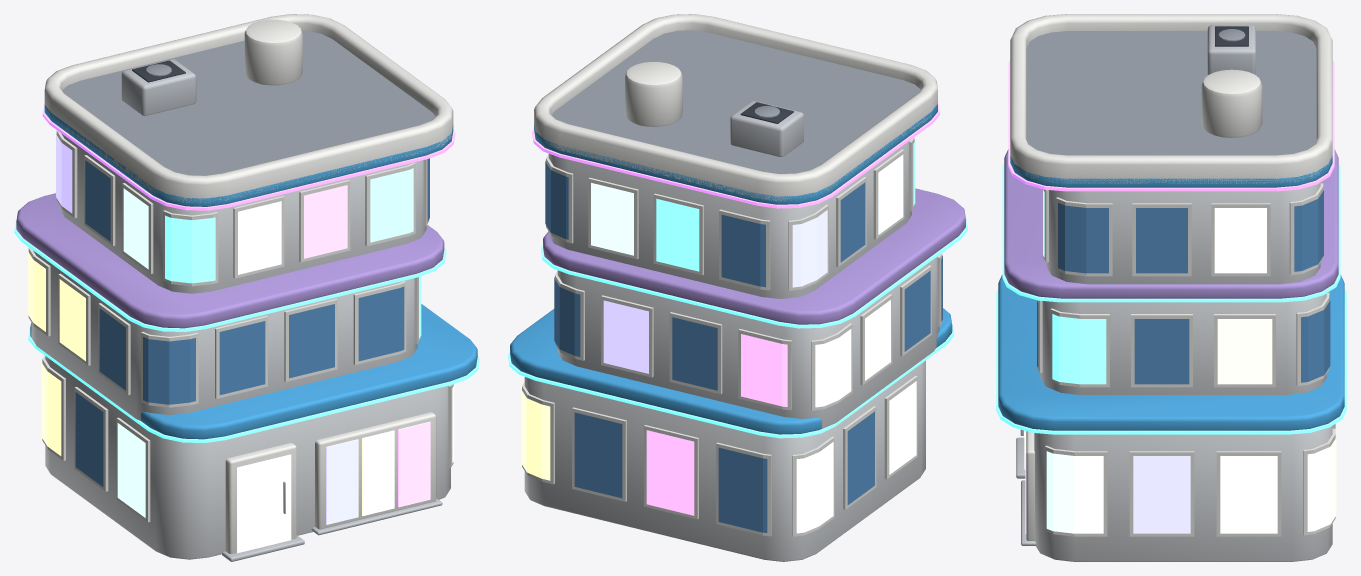
The model's file is predio_caixa_sacadas_azul.glb.
3 renders of one model, left to right at view 1: azimuth 30°, elevation 25°; view 2: azimuth 150°, elevation 25°; view 3: azimuth 270°, elevation 25°, orthographic. The views are drawn at different scales.
Parts seen in each view (by area): view 1: predio_caixa_sacadas_azul; view 2: predio_caixa_sacadas_azul; view 3: predio_caixa_sacadas_azul.
Part boxes in pixels (left/top/right/bottom): predio_caixa_sacadas_azul: left=14, top=14, right=479, bottom=561; predio_caixa_sacadas_azul: left=508, top=14, right=967, bottom=561; predio_caixa_sacadas_azul: left=996, top=14, right=1346, bottom=561.
Size of the model in its own units: 10.1 by 11.91 by 8.7.
Materials: 10 (1 with a texture image).
